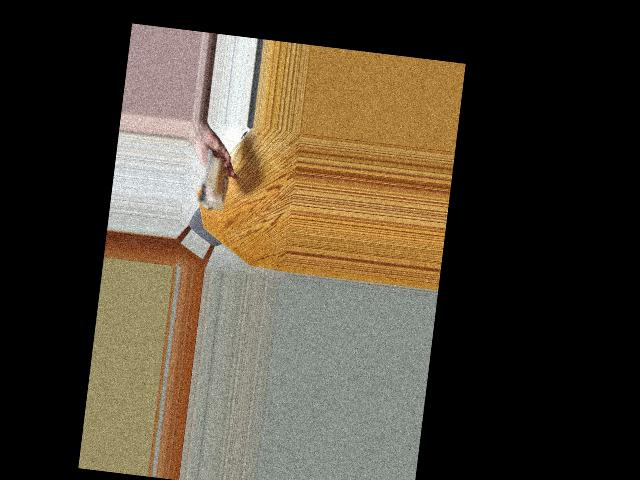cheese: (192, 153, 237, 210)
